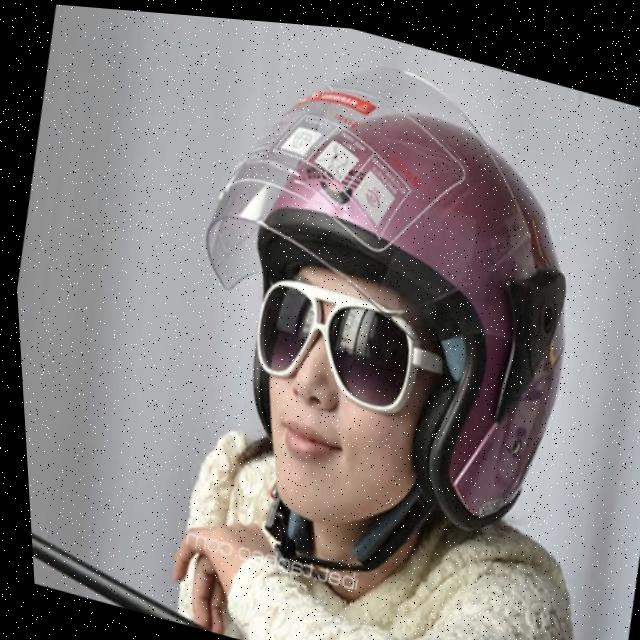helmet: (128, 8, 633, 636)
